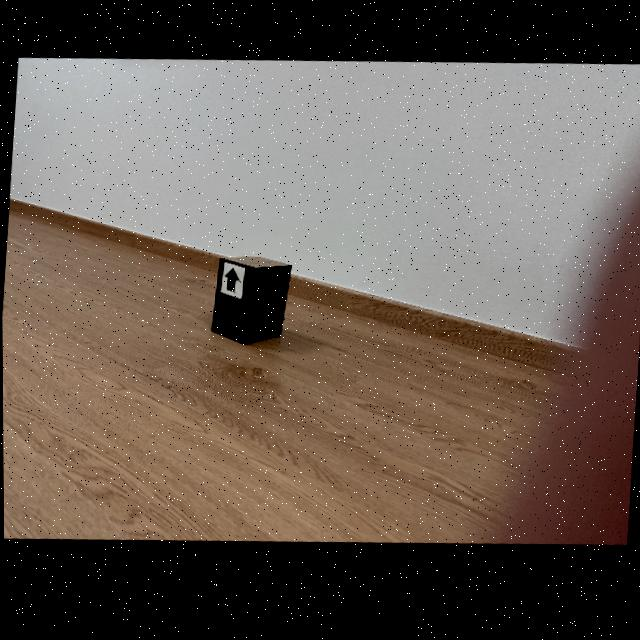UP: (224, 271, 239, 295)
